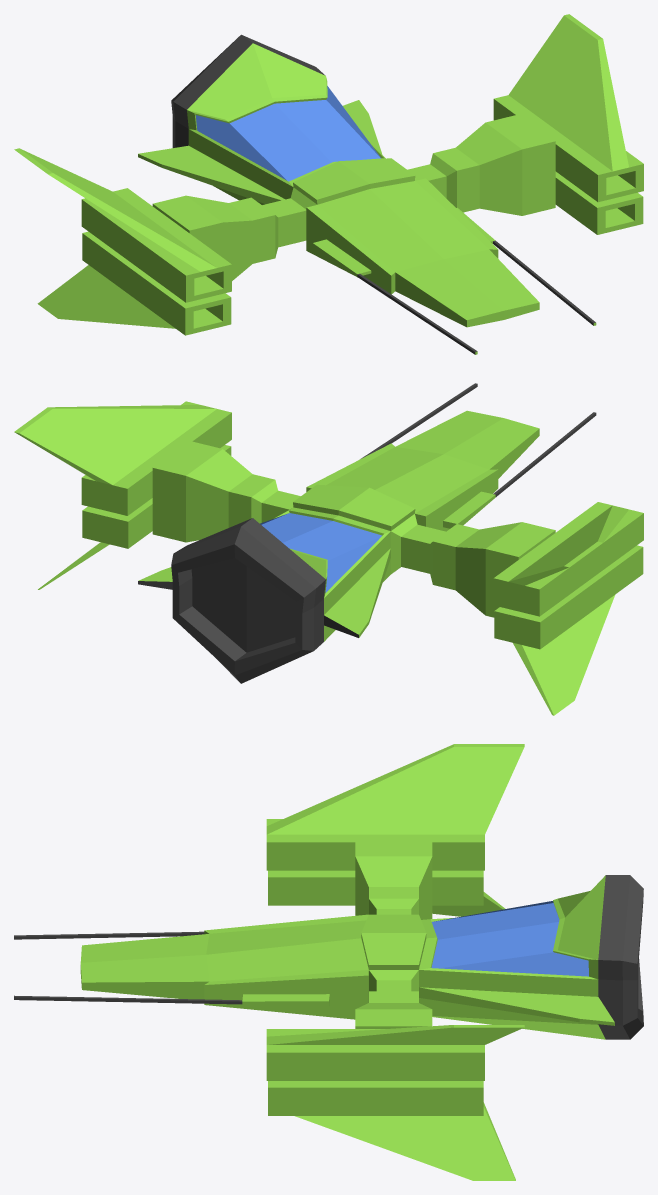
File: EclipseSerpent444.glb
The picture shows the model from 3 angles, top to bottom: view 1: azimuth 30°, elevation 25°; view 2: azimuth 150°, elevation 25°; view 3: azimuth 270°, elevation 25°; orthographic projection. The views are drawn at different scales.
Visible parts, largest first — view 1: EclipseSerpent444; view 2: EclipseSerpent444; view 3: EclipseSerpent444.
Part boxes in pixels (left/top/right/bottom): EclipseSerpent444: left=14, top=14, right=643, bottom=354; EclipseSerpent444: left=14, top=383, right=643, bottom=715; EclipseSerpent444: left=14, top=744, right=643, bottom=1180.
Bounding box in the file's own units: 34.66 × 9.92 × 32.56.
1 material, 1 textured.
